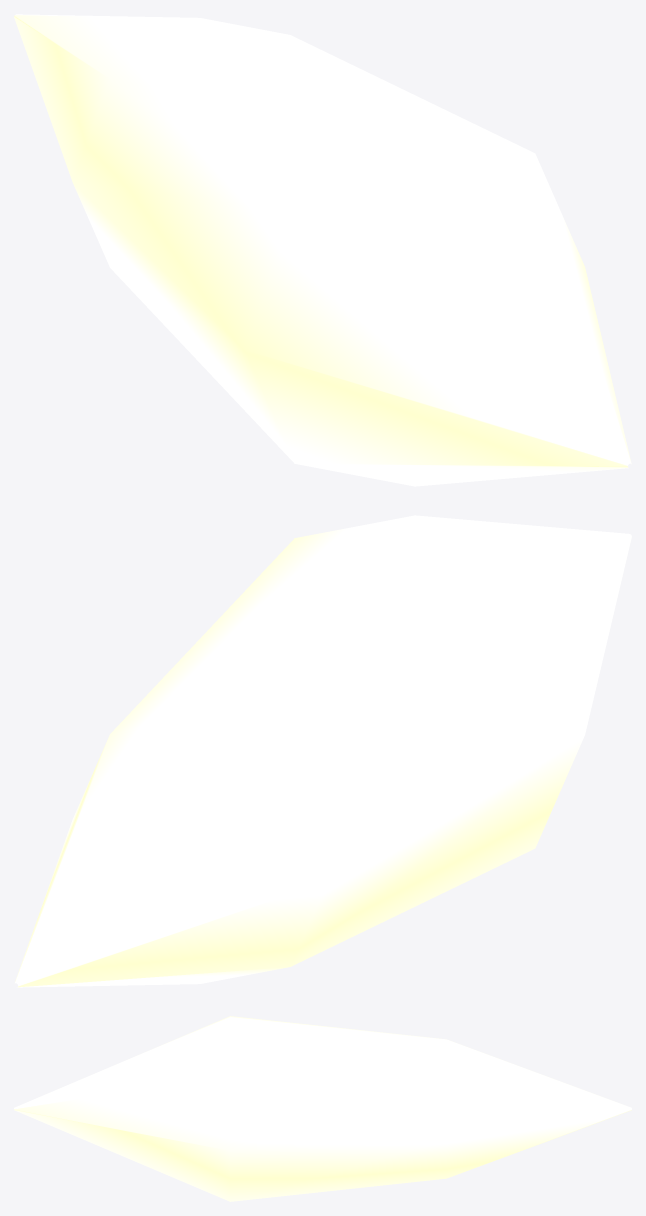
Rendered from Bolt.glb.
3 views of the same model, one above another, from view 1: azimuth 30°, elevation 25°; view 2: azimuth 150°, elevation 25°; view 3: azimuth 270°, elevation 25° (orthographic). The views are drawn at different scales.
Parts seen in each view (by area): view 1: Bolt; view 2: Bolt; view 3: Bolt.
Boxes of the visible parts, x1=… form: Bolt: x1=14, y1=14, x2=631, y2=486; Bolt: x1=14, y1=515, x2=631, y2=987; Bolt: x1=14, y1=1016, x2=631, y2=1201.
Bounding box in the file's own units: 0.16 × 0.16 × 0.5.
